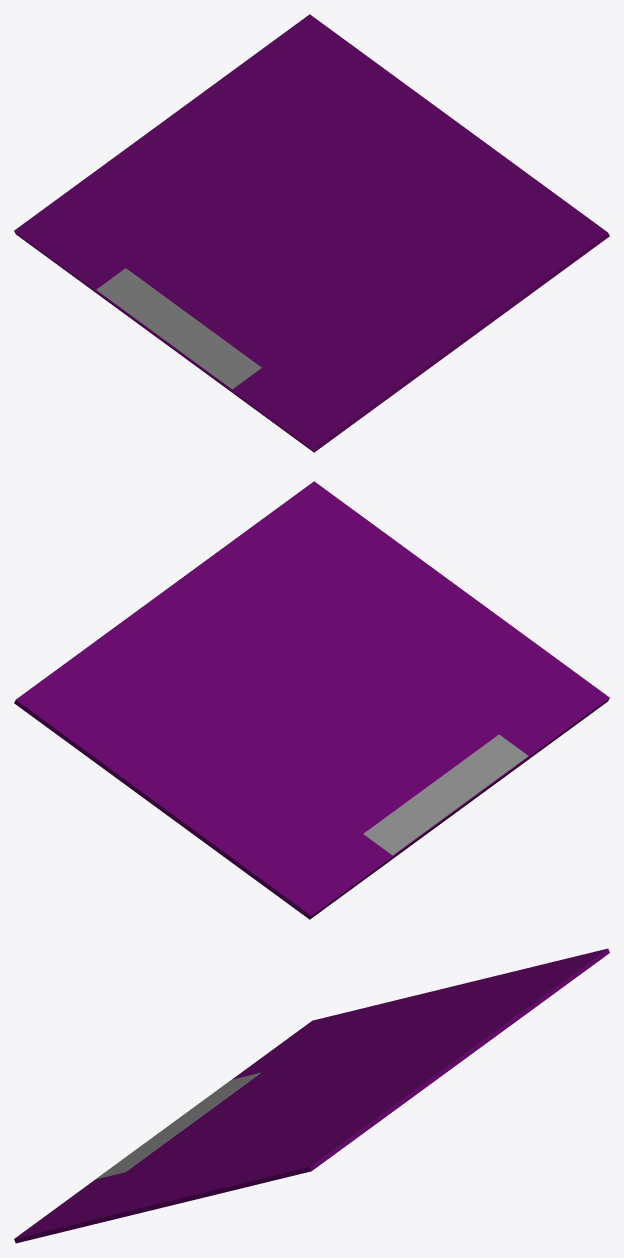
The model's file is OtherPencilCase_Cover3.FBX.
The picture shows the model from 3 angles, top to bottom: view 1: azimuth 30°, elevation 25°; view 2: azimuth 150°, elevation 25°; view 3: azimuth 330°, elevation 25°; orthographic projection.
Visible parts, largest first — view 1: Box001, Box002; view 2: Box001, Box002; view 3: Box001, Box002.
Part boxes in pixels (x1,y1,x2,y2): Box001: (14, 14, 609, 452); Box002: (96, 268, 261, 389); Box001: (14, 481, 609, 919); Box002: (363, 734, 528, 855); Box001: (14, 948, 609, 1243); Box002: (95, 1072, 260, 1179).
Bounding box in the file's own units: 87.62 × 41.75 × 152.
